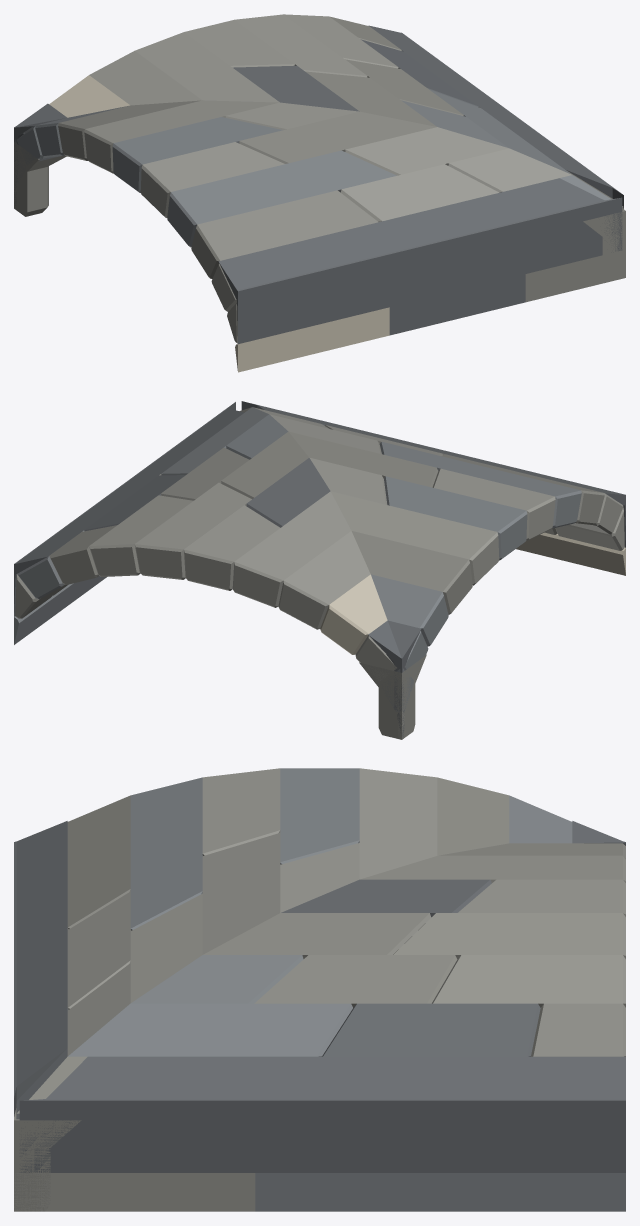
The model's file is SM_LPD_Struct_CeilVaultBayCorner_01.fbx.
3 views of the same model, one above another, from view 1: azimuth 30°, elevation 25°; view 2: azimuth 150°, elevation 25°; view 3: azimuth 270°, elevation 25° (orthographic). The views are drawn at different scales.
Visible parts, largest first — view 1: SM_LPD_Struct_CeilVaultBayCorner_01; view 2: SM_LPD_Struct_CeilVaultBayCorner_01; view 3: SM_LPD_Struct_CeilVaultBayCorner_01.
Part boxes in pixels (bbox=[...]): SM_LPD_Struct_CeilVaultBayCorner_01: bbox=[14, 14, 625, 372]; SM_LPD_Struct_CeilVaultBayCorner_01: bbox=[14, 401, 625, 739]; SM_LPD_Struct_CeilVaultBayCorner_01: bbox=[14, 768, 625, 1211].
Size of the model in its own units: 4 by 1.34 by 4.
